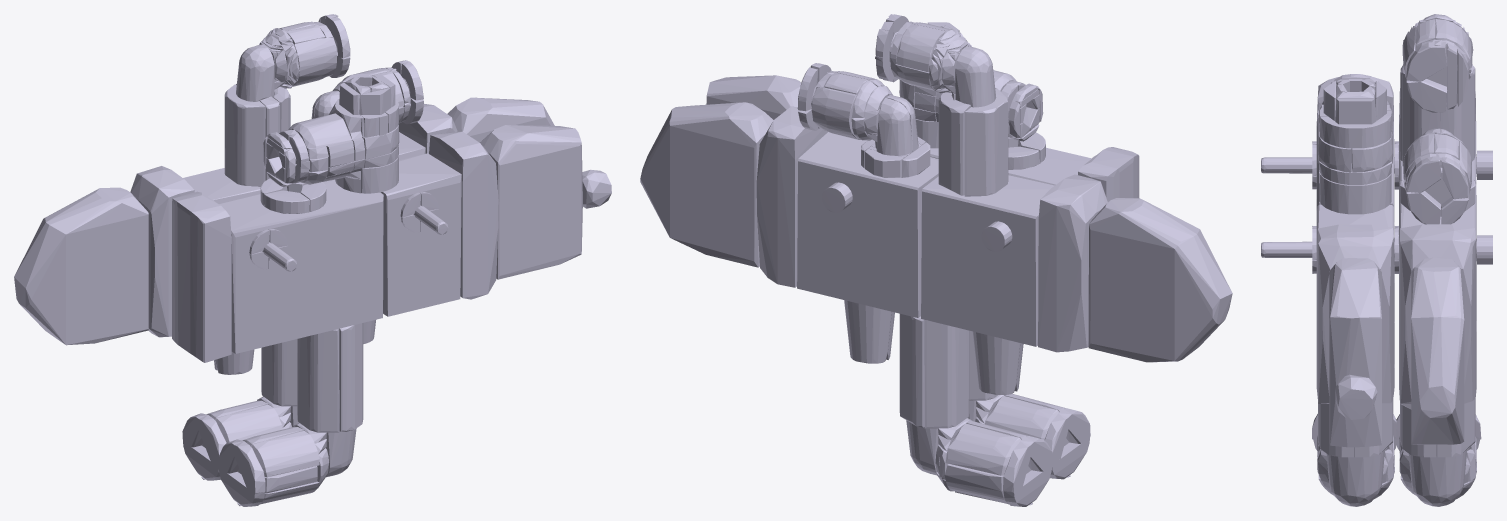
Rendered from Fraese2_convex_2.glb.
3 renders of one model, left to right at view 1: azimuth 30°, elevation 25°; view 2: azimuth 150°, elevation 25°; view 3: azimuth 270°, elevation 25°, orthographic. The views are drawn at different scales.
Parts seen in each view (by area): view 1: MechanicalTool.1_Part2 (×3), MechanicalTool.1_Part1 (×2), MechanicalTool.1_Part6 (×2), MechanicalTool.1_Part4, MechanicalTool.3_Part4 (×3), MechanicalTool.1_Part5 (×2), MechanicalTool.3_Part6 (×2), MechanicalTool.3_Part1 (×2), MechanicalTool.3_Part10, MechanicalTool.1_Part3 (×2), MechanicalTool.3_Part24 (×2), MechanicalTool.3_Part16 (×2) (+7 smaller); view 2: MechanicalTool.1_Part2 (×2), MechanicalTool.1_Part4 (×2), MechanicalTool.1_Part1 (×4), MechanicalTool.1_Part5, MechanicalTool.1_Part3 (×3), MechanicalTool.3_Part4 (×3), MechanicalTool.1_Part6, MechanicalTool.3_Part5 (×2), MechanicalTool.3_Part1 (×2), MechanicalTool.3_Part9, MechanicalTool.3_Part8, MechanicalTool.3_Part16 (×2) (+9 smaller); view 3: MechanicalTool.1_Part1 (×4), MechanicalTool.1_Part4 (×2), MechanicalTool.1_Part3 (×2), MechanicalTool.1_Part5 (×2), MechanicalTool.3_Part1 (×2), MechanicalTool.1_Part2 (×3), MANIFOLD_SOLID_BREP #2903_Part8, MANIFOLD_SOLID_BREP #2903_Part41, MechanicalTool.3_Part9 (×2), MechanicalTool.3_Part10 (×2), MechanicalTool.3_Part8, MechanicalTool.3_Part16 (+25 smaller).
Boxes of the visible parts, x1,y1,x2,y2 form: MechanicalTool.1_Part2 (×3): (14, 187, 254, 374); MechanicalTool.1_Part1 (×2): (219, 97, 554, 353); MechanicalTool.1_Part6 (×2): (130, 153, 461, 337); MechanicalTool.1_Part4: (480, 125, 582, 279); MechanicalTool.3_Part4 (×3): (224, 84, 339, 432); MechanicalTool.1_Part5 (×2): (183, 131, 498, 299); MechanicalTool.3_Part6 (×2): (215, 404, 319, 477); MechanicalTool.3_Part1 (×2): (236, 44, 356, 477); MechanicalTool.3_Part10: (339, 323, 363, 431); MechanicalTool.1_Part3 (×2): (398, 104, 611, 208); MechanicalTool.3_Part24 (×2): (198, 415, 265, 493); MechanicalTool.3_Part16 (×2): (183, 441, 264, 506); MechanicalTool.1_Part2 (×2): (1078, 147, 1232, 362); MechanicalTool.1_Part4 (×2): (706, 75, 938, 317); MechanicalTool.1_Part1 (×4): (640, 102, 1091, 267); MechanicalTool.1_Part5: (921, 175, 1054, 346); MechanicalTool.1_Part3 (×3): (756, 106, 1020, 394); MechanicalTool.3_Part4 (×3): (924, 88, 1008, 428); MechanicalTool.1_Part6: (1038, 174, 1107, 352); MechanicalTool.3_Part5 (×2): (945, 395, 1059, 475); MechanicalTool.3_Part1 (×2): (906, 46, 996, 475); MechanicalTool.3_Part9: (899, 313, 924, 427); MechanicalTool.3_Part8: (938, 92, 971, 195); MechanicalTool.3_Part16 (×2): (1003, 437, 1089, 506); MechanicalTool.1_Part1 (×4): (1316, 118, 1492, 444); MechanicalTool.1_Part4 (×2): (1329, 183, 1476, 447); MechanicalTool.1_Part3 (×2): (1335, 224, 1476, 419); MechanicalTool.1_Part5 (×2): (1316, 118, 1476, 403); MechanicalTool.3_Part1 (×2): (1326, 449, 1467, 506); MechanicalTool.1_Part2 (×3): (1261, 77, 1476, 257); MANIFOLD_SOLID_BREP #2903_Part8: (1319, 172, 1391, 214); MANIFOLD_SOLID_BREP #2903_Part41: (1320, 116, 1391, 148); MechanicalTool.3_Part9 (×2): (1354, 398, 1475, 457); MechanicalTool.3_Part10 (×2): (1318, 402, 1436, 457); MechanicalTool.3_Part8: (1440, 65, 1475, 161); MechanicalTool.3_Part16: (1402, 72, 1440, 165).
Size of the model in its own units: 0.1346 by 0.1011 by 0.0429.
